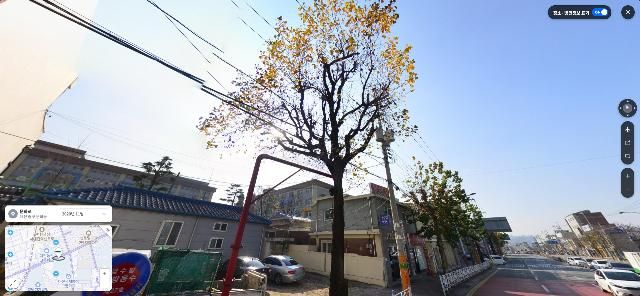ginkgo: (195, 0, 418, 296)
other: (399, 160, 476, 273)
